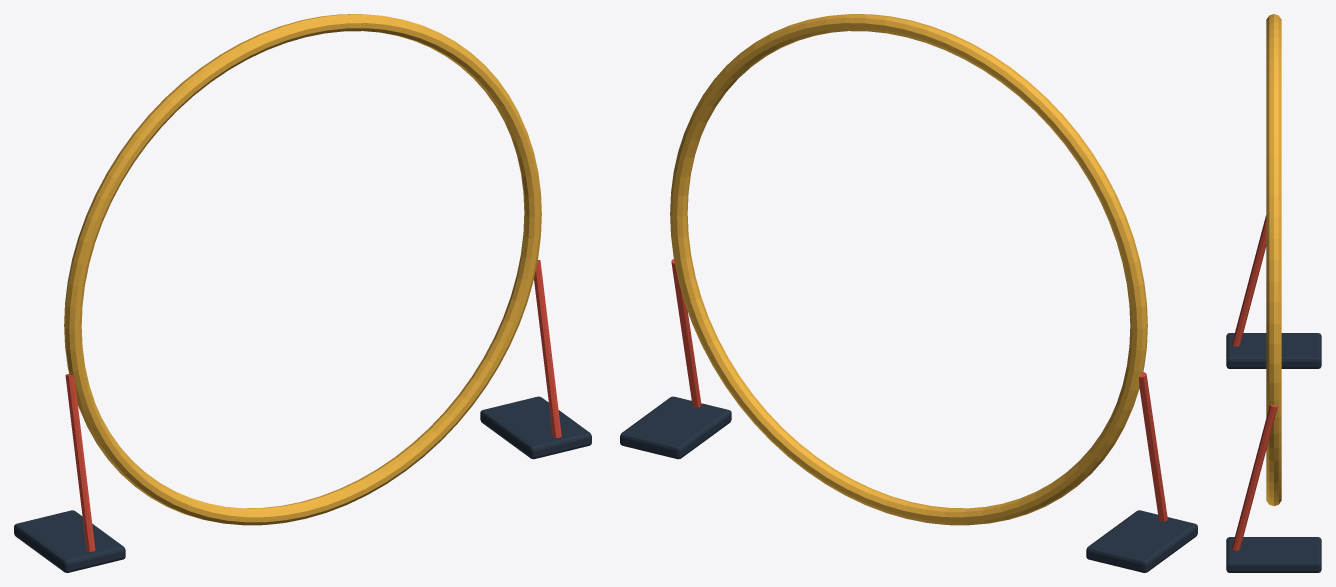
Rendered from ring.glb.
3 renders of one model, left to right at view 1: azimuth 30°, elevation 25°; view 2: azimuth 150°, elevation 25°; view 3: azimuth 270°, elevation 25°, orthographic. The views are drawn at different scales.
Visible parts, largest first — view 1: Ring steel, Ring foot.001, Ring foot, Ring strut, Ring strut.001; view 2: Ring steel, Ring foot.001, Ring foot, Ring strut, Ring strut.001; view 3: Ring steel, Ring foot.001, Ring foot, Ring strut.001, Ring strut.
Part boxes in pixels (x1,y1,x2,y2): Ring steel: (64, 14, 541, 525); Ring foot.001: (480, 396, 591, 459); Ring foot: (14, 510, 125, 572); Ring strut: (65, 374, 95, 551); Ring strut.001: (534, 260, 561, 437); Ring steel: (670, 14, 1147, 525); Ring foot.001: (620, 396, 731, 459); Ring foot: (1086, 510, 1197, 572); Ring strut: (1139, 372, 1167, 521); Ring strut.001: (671, 259, 701, 407); Ring steel: (1266, 14, 1281, 505); Ring foot.001: (1226, 537, 1321, 572); Ring foot: (1226, 333, 1321, 368); Ring strut.001: (1232, 404, 1277, 550); Ring strut: (1232, 215, 1266, 346).
Size of the model in its own units: 17.2 by 15.5 by 3.
